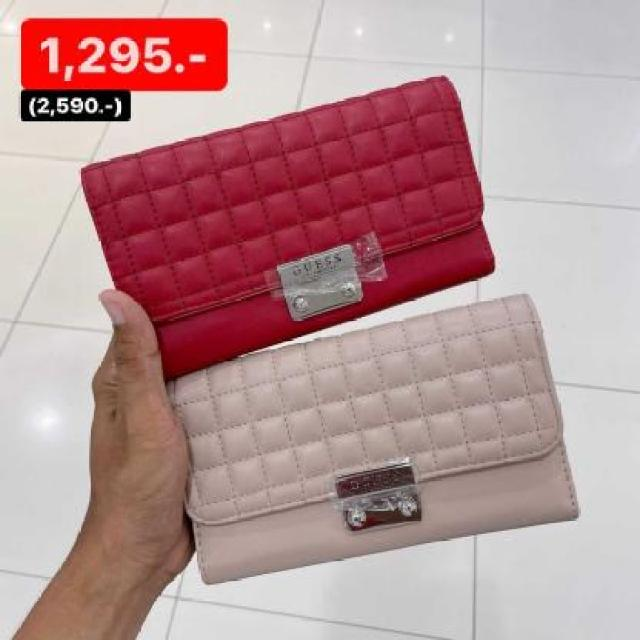Bag: (16, 39, 561, 368), (139, 296, 613, 590)
